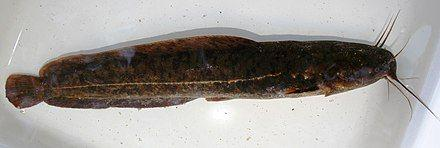Catfish: (5, 31, 402, 118)
